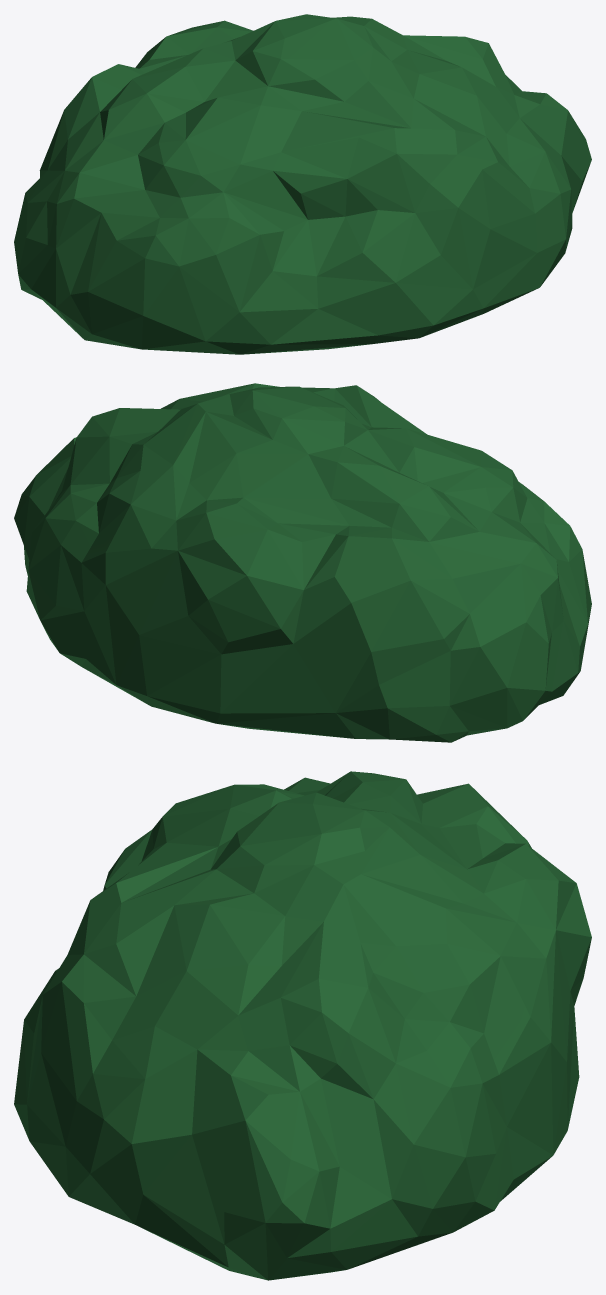
Rendered from delh_foli_07_01.fbx.
3 renders of one model, top to bottom at view 1: azimuth 30°, elevation 25°; view 2: azimuth 150°, elevation 25°; view 3: azimuth 270°, elevation 25°, orthographic. The views are drawn at different scales.
Parts seen in each view (by area): view 1: delh_foli_07_01; view 2: delh_foli_07_01; view 3: delh_foli_07_01.
Part boxes in pixels (x1=…): delh_foli_07_01: x1=14, y1=14, x2=591, y2=354; delh_foli_07_01: x1=14, y1=383, x2=591, y2=742; delh_foli_07_01: x1=14, y1=771, x2=591, y2=1280.
Size of the model in its own units: 149 by 67.57 by 107.
